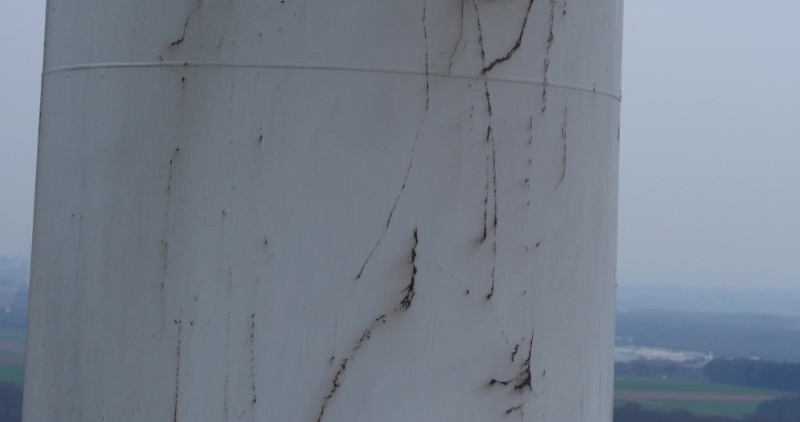weldseam: (35, 56, 624, 107)
